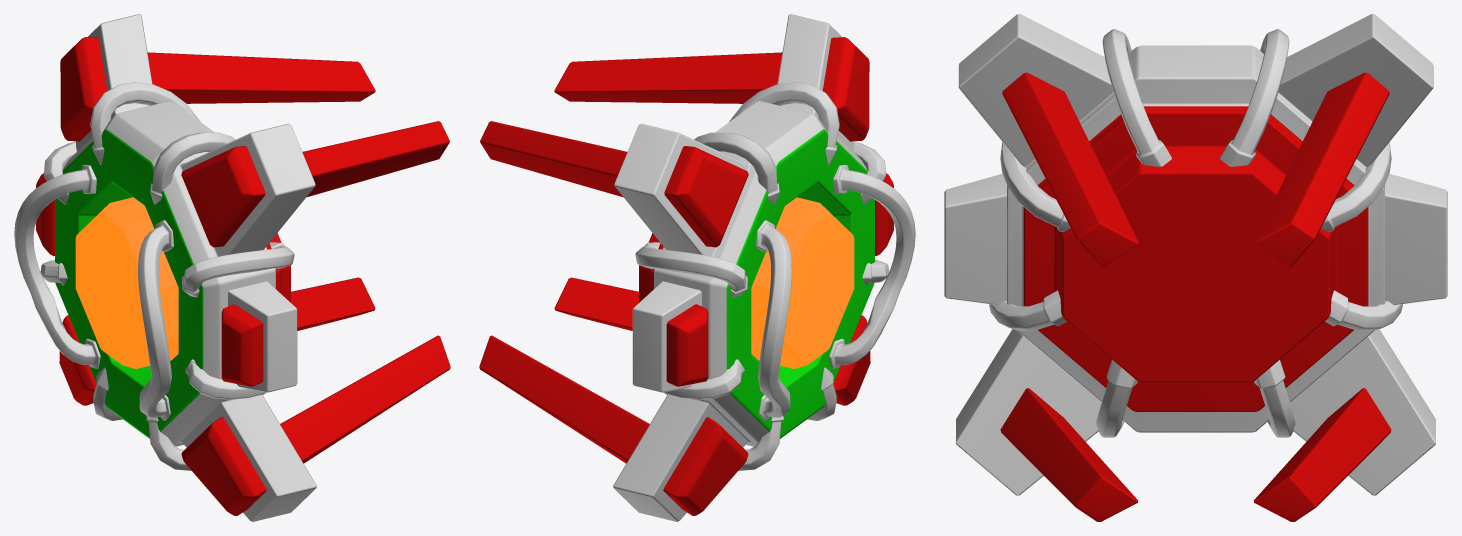
Rendered from SM_SethShield.fbx.
3 views of the same model, side by side, from view 1: azimuth 30°, elevation 25°; view 2: azimuth 150°, elevation 25°; view 3: azimuth 270°, elevation 25° (orthographic). The views are drawn at different scales.
Parts seen in each view (by area): view 1: SethShieldModuleModel, Pipes, SethShieldModuleShield; view 2: SethShieldModuleModel, Pipes, SethShieldModuleShield; view 3: SethShieldModuleModel, Pipes.
Part boxes in pixels (left/top/right/bottom): SethShieldModuleModel: left=36, top=14, right=450, bottom=521; Pipes: left=14, top=82, right=294, bottom=470; SethShieldModuleShield: left=75, top=197, right=178, bottom=368; SethShieldModuleModel: left=479, top=14, right=893, bottom=521; Pipes: left=635, top=82, right=915, bottom=470; SethShieldModuleShield: left=751, top=197, right=854, bottom=368; SethShieldModuleModel: left=944, top=14, right=1447, bottom=521; Pipes: left=989, top=29, right=1402, bottom=437.
Bounding box in the file's own units: 7.61 × 8.75 × 8.82.
